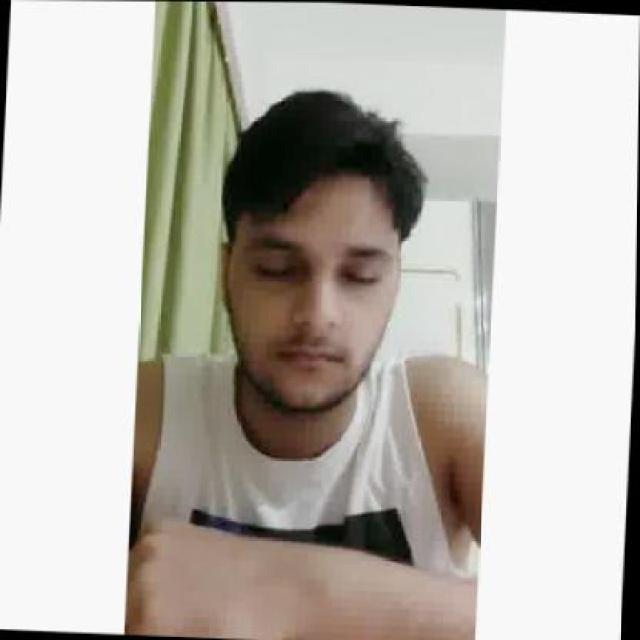inattentif: (206, 81, 414, 424)
